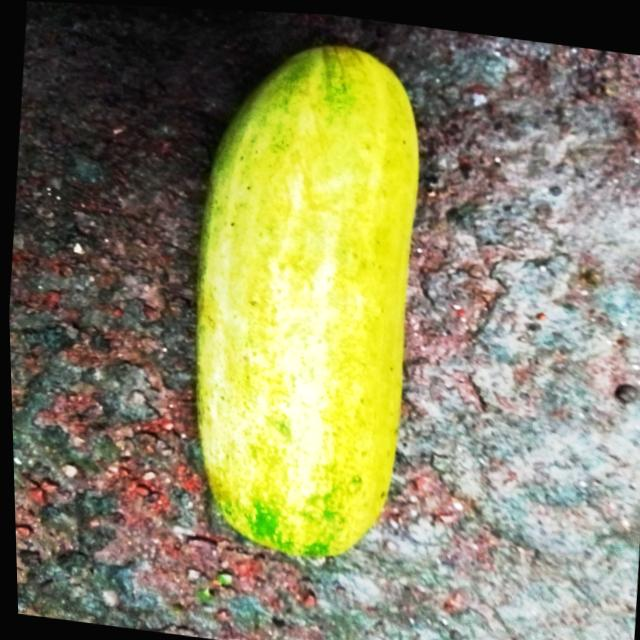Fresh-Cucumber: (163, 20, 443, 579)
